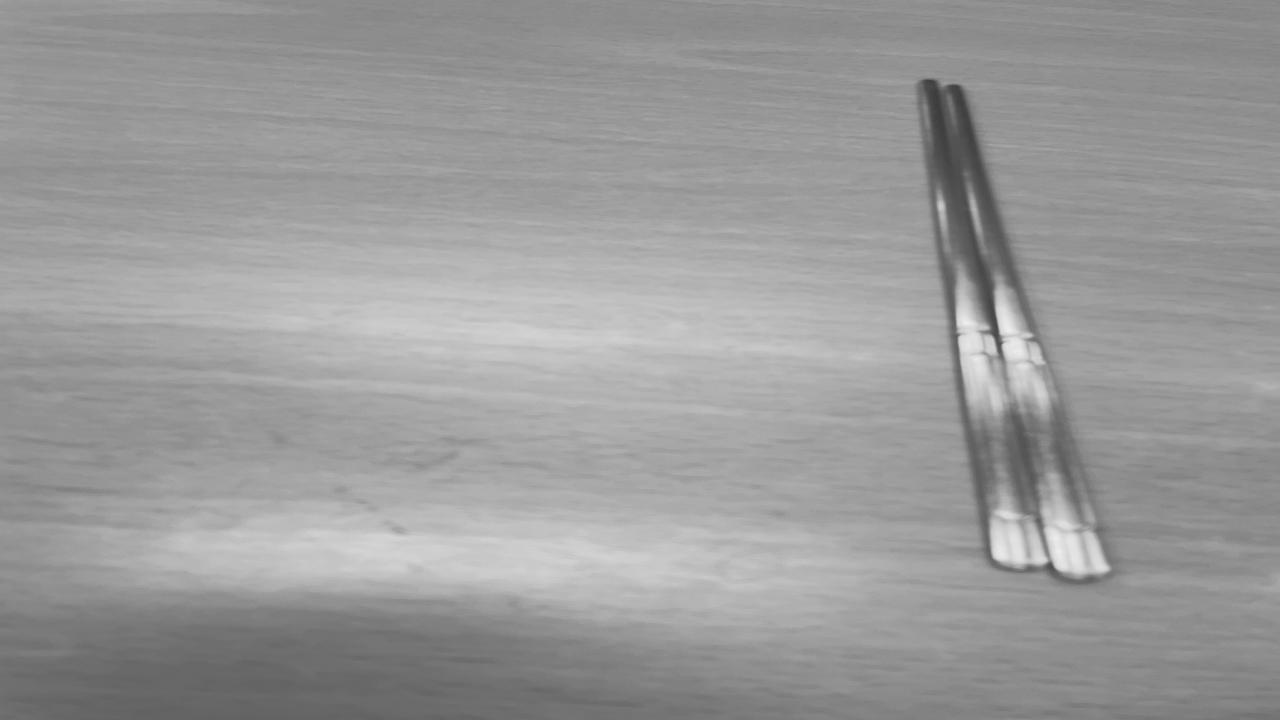chopstick: (919, 80, 1109, 575)
